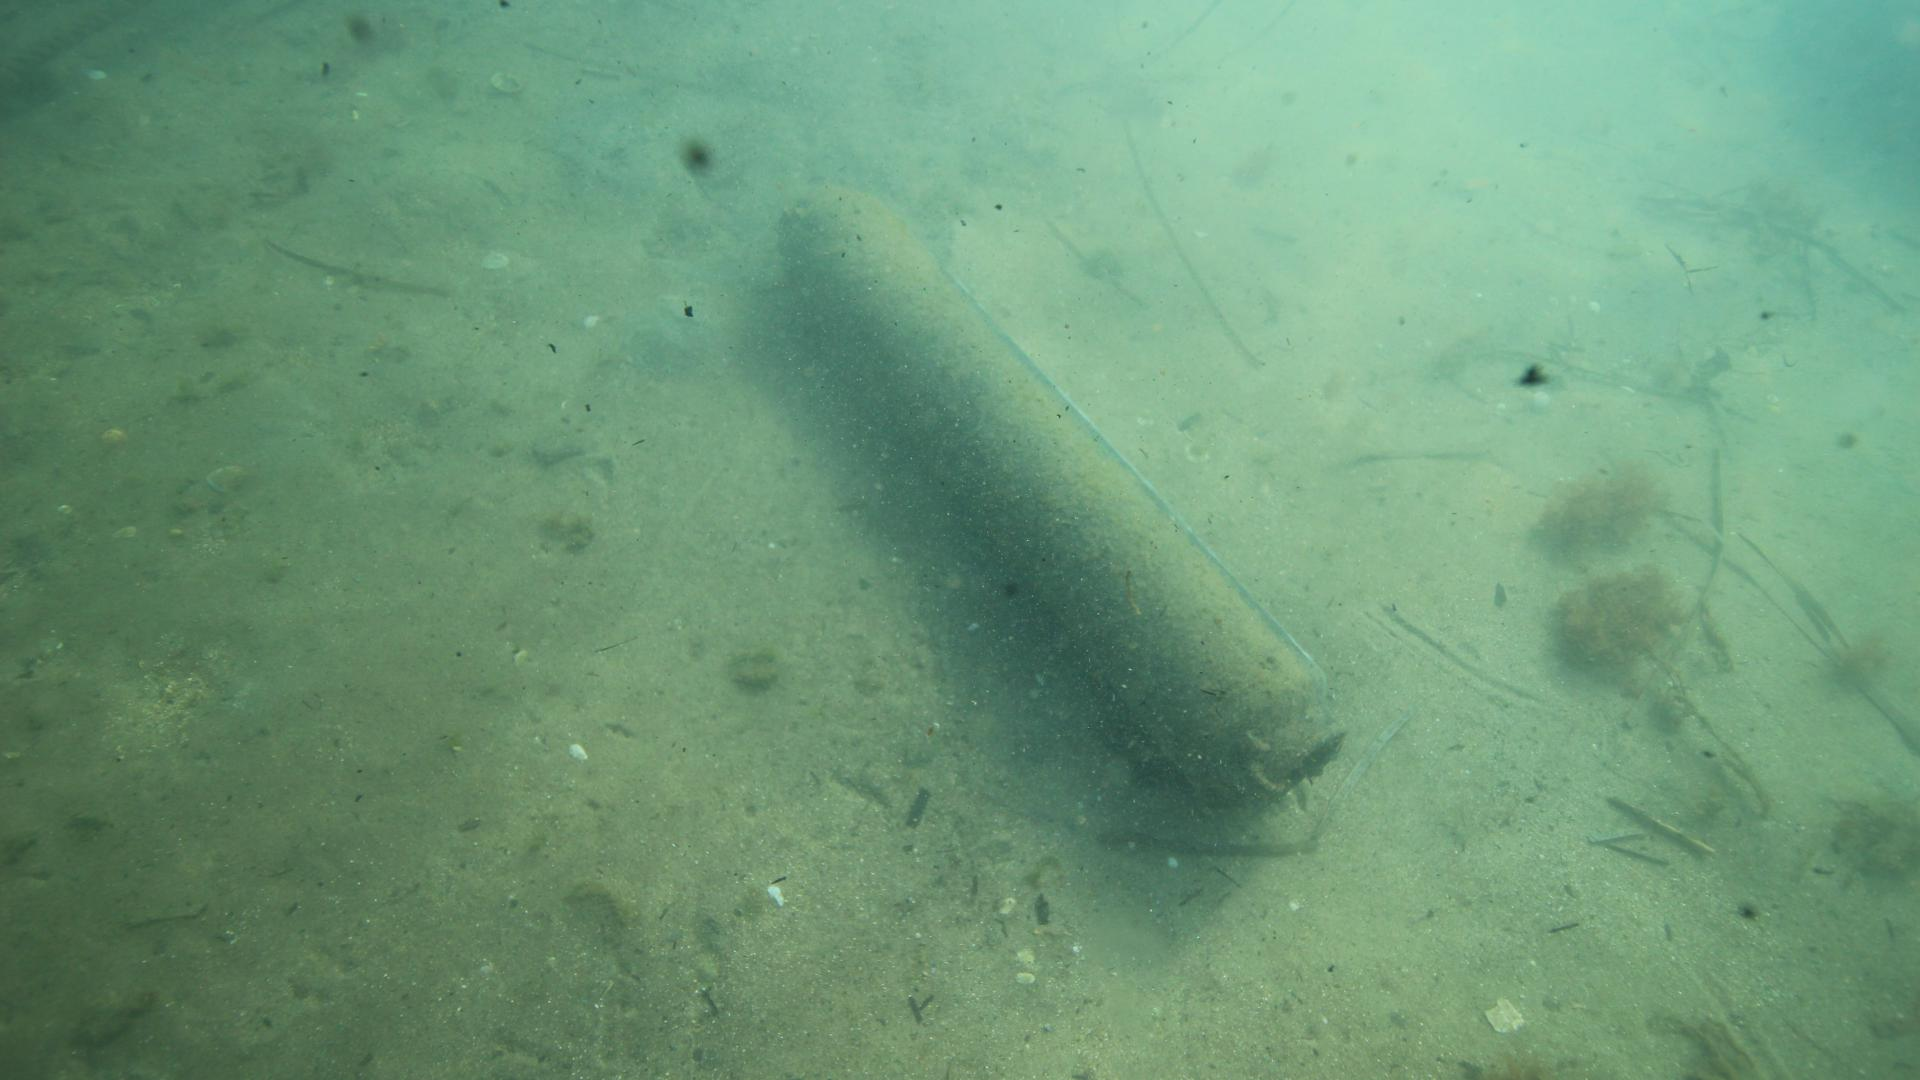eel fish trap: (775, 181, 1349, 803)
